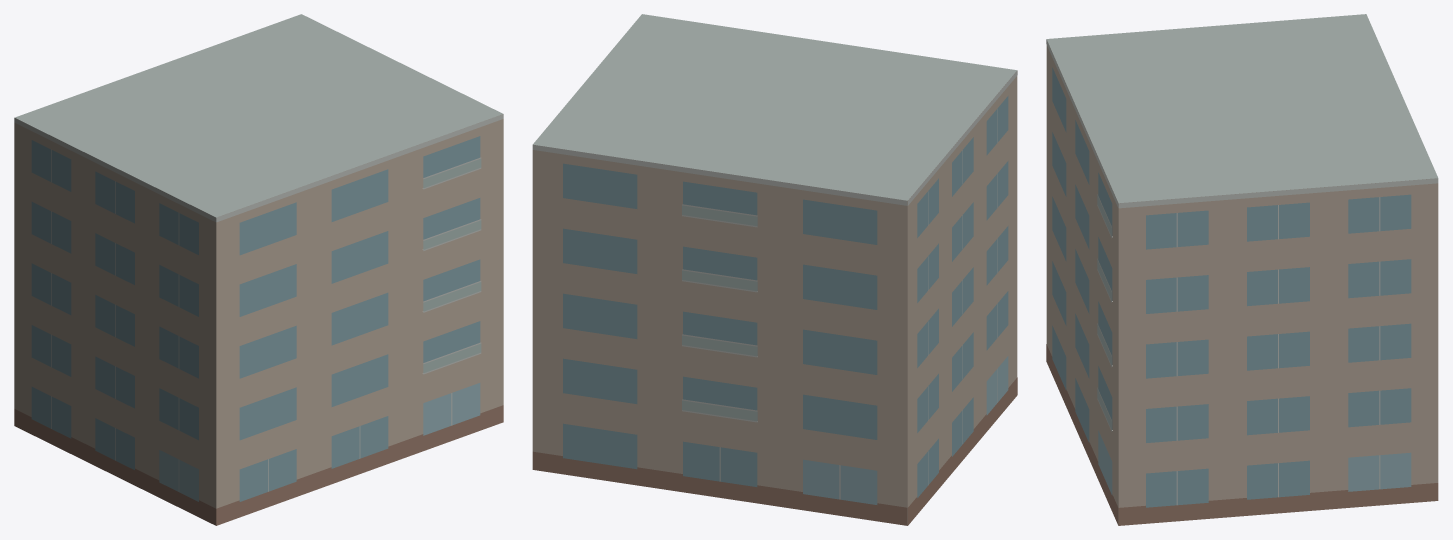
Rendered from residential-3d7e7e4e-762f-44c7-8985-72cd74a53f9b.glb.
3 renders of one model, left to right at view 1: azimuth 30°, elevation 25°; view 2: azimuth 150°, elevation 25°; view 3: azimuth 270°, elevation 25°, orthographic. The views are drawn at different scales.
Parts seen in each view (by area): view 1: residential-3d7e7e4e-762f-44c7-8985-72cd74a53f9b.tmp; view 2: residential-3d7e7e4e-762f-44c7-8985-72cd74a53f9b.tmp; view 3: residential-3d7e7e4e-762f-44c7-8985-72cd74a53f9b.tmp.
Part boxes in pixels (bbox=[...]): residential-3d7e7e4e-762f-44c7-8985-72cd74a53f9b.tmp: bbox=[14, 14, 503, 525]; residential-3d7e7e4e-762f-44c7-8985-72cd74a53f9b.tmp: bbox=[532, 14, 1017, 525]; residential-3d7e7e4e-762f-44c7-8985-72cd74a53f9b.tmp: bbox=[1046, 14, 1438, 525].
Size of the model in its own units: 19.19 by 15.25 by 16.8.
